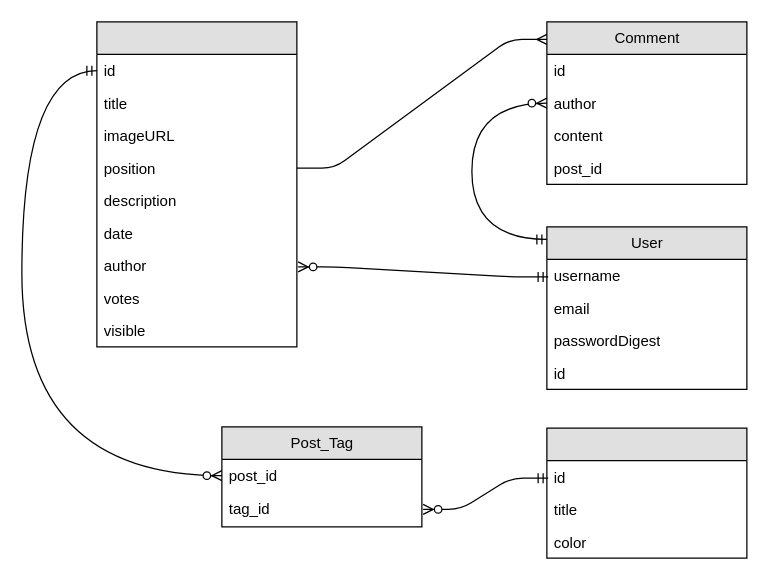
Some shapes in this 769 by 584 pixel diagram are drawn without their labels. Here are the shapes that lost their labels. From the top down, the box of each, then its label:
(96, 21, 297, 347): Post
(546, 427, 747, 558): Tag
